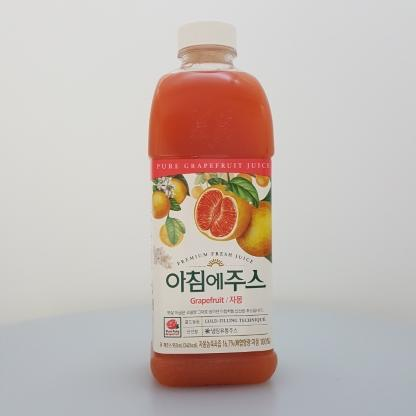-----------950ML: (148, 21, 278, 389)
